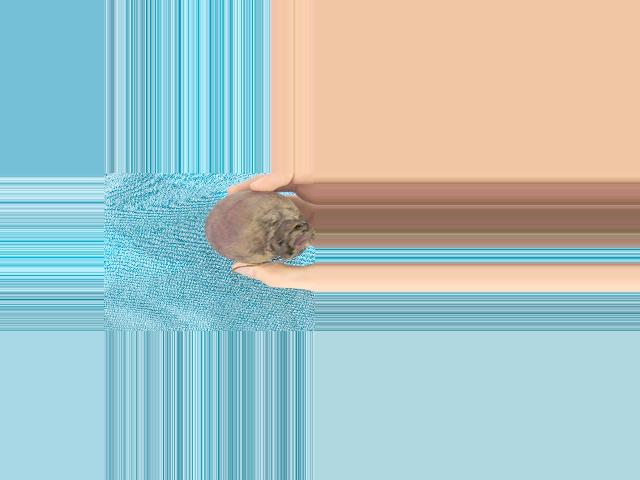beet: (205, 190, 313, 273)
